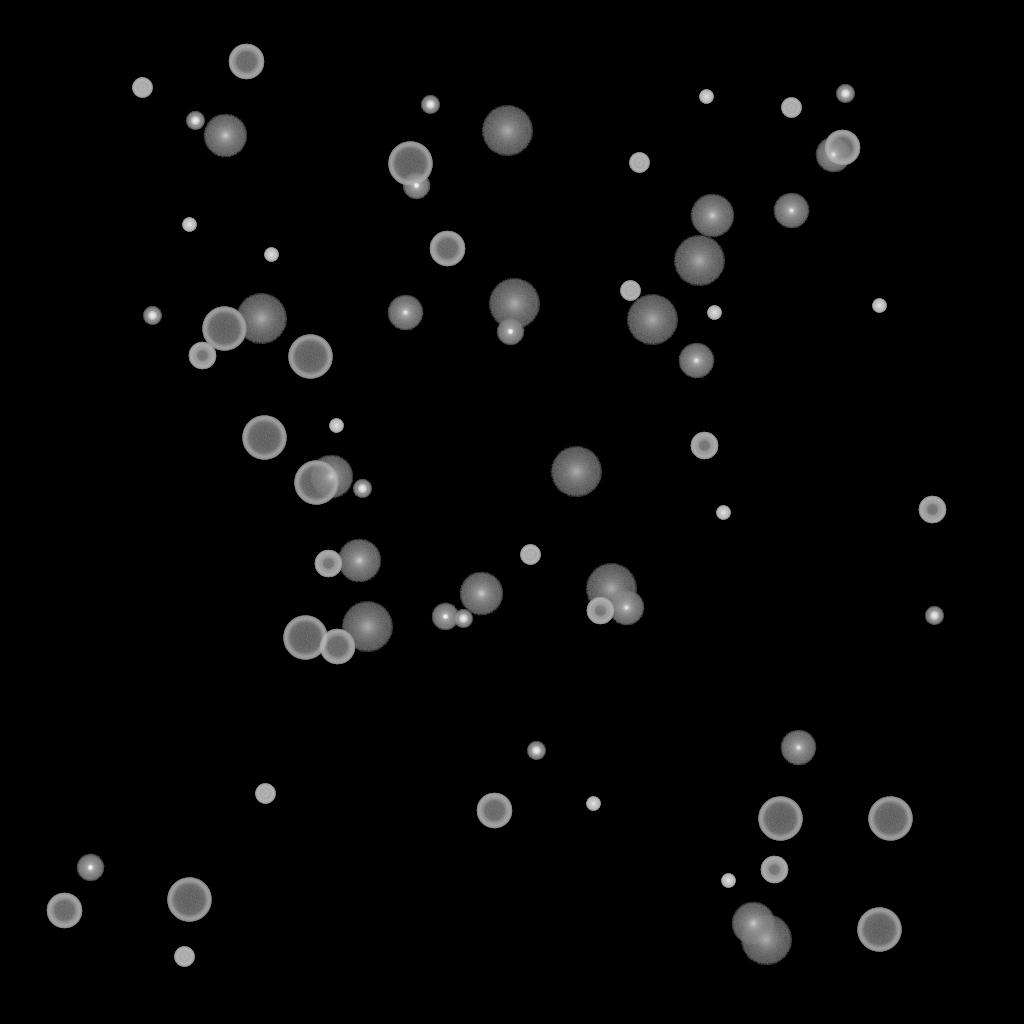depth:-10: (76, 854, 104, 882), (431, 603, 459, 631), (402, 172, 430, 200), (496, 318, 524, 346)
depth:-20: (836, 85, 854, 103), (527, 742, 545, 760), (186, 112, 204, 130), (925, 607, 943, 625), (421, 96, 439, 114), (353, 480, 371, 498), (143, 307, 161, 325), (454, 610, 472, 628)
depth:-30: (586, 797, 600, 811), (716, 506, 730, 520), (182, 218, 196, 232), (264, 248, 278, 262), (872, 299, 886, 313), (721, 874, 735, 888), (699, 90, 713, 104), (707, 306, 721, 320), (329, 419, 343, 433)
depth:-40: (781, 98, 801, 118), (520, 545, 540, 565), (174, 947, 194, 967), (629, 153, 649, 173), (132, 78, 152, 98), (620, 281, 640, 301), (255, 784, 275, 804)
depth:-50: (586, 597, 614, 625), (760, 856, 788, 884), (918, 496, 946, 524), (690, 432, 718, 460), (314, 550, 342, 578), (188, 342, 216, 370)
depth:-60: (429, 231, 465, 267), (228, 44, 264, 80), (46, 893, 82, 929), (476, 793, 512, 829), (319, 629, 355, 665), (824, 130, 860, 166)
depth:-70: (758, 797, 802, 841), (288, 335, 332, 379), (167, 878, 211, 922), (202, 307, 246, 351), (388, 142, 432, 186), (294, 461, 338, 505), (242, 416, 286, 460), (857, 908, 901, 952), (283, 616, 327, 660), (868, 797, 912, 841)
depth:0: (780, 730, 816, 766), (387, 295, 423, 331), (608, 590, 644, 626), (773, 193, 809, 229), (815, 137, 851, 173), (678, 343, 714, 379)
depth:10: (690, 194, 734, 238), (731, 902, 775, 946), (459, 572, 503, 616), (203, 114, 247, 158), (337, 539, 381, 583), (309, 455, 353, 499)
depth:20: (341, 602, 393, 652), (550, 447, 602, 497), (488, 279, 540, 329), (740, 915, 792, 965), (626, 295, 678, 345), (673, 236, 725, 286), (481, 106, 533, 156), (235, 294, 287, 344), (585, 564, 637, 614)
